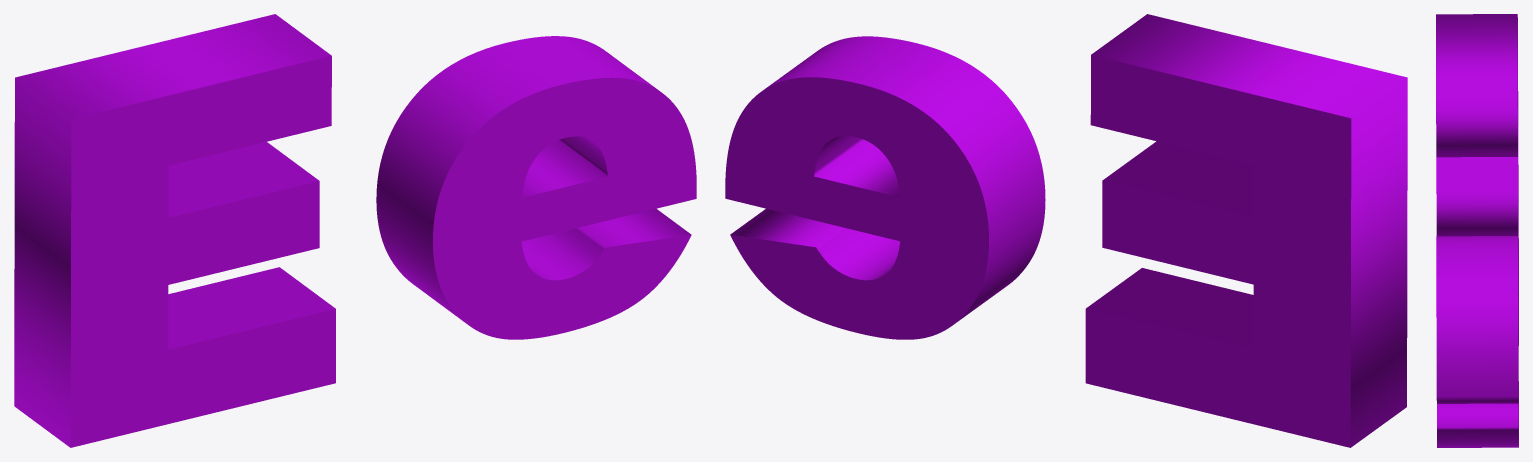
File: letra e.fbx
3 views of the same model, side by side, from view 1: azimuth 30°, elevation 25°; view 2: azimuth 150°, elevation 25°; view 3: azimuth 270°, elevation 25° (orthographic). The views are drawn at different scales.
Visible parts, largest first — view 1: Text; view 2: Text; view 3: Text.
Boxes of the visible parts, x1=… form: Text: x1=14, y1=14, x2=696, y2=447; Text: x1=725, y1=14, x2=1407, y2=447; Text: x1=1436, y1=14, x2=1518, y2=447.
Size of the model in its own units: 102 by 52.4 by 16.21.
